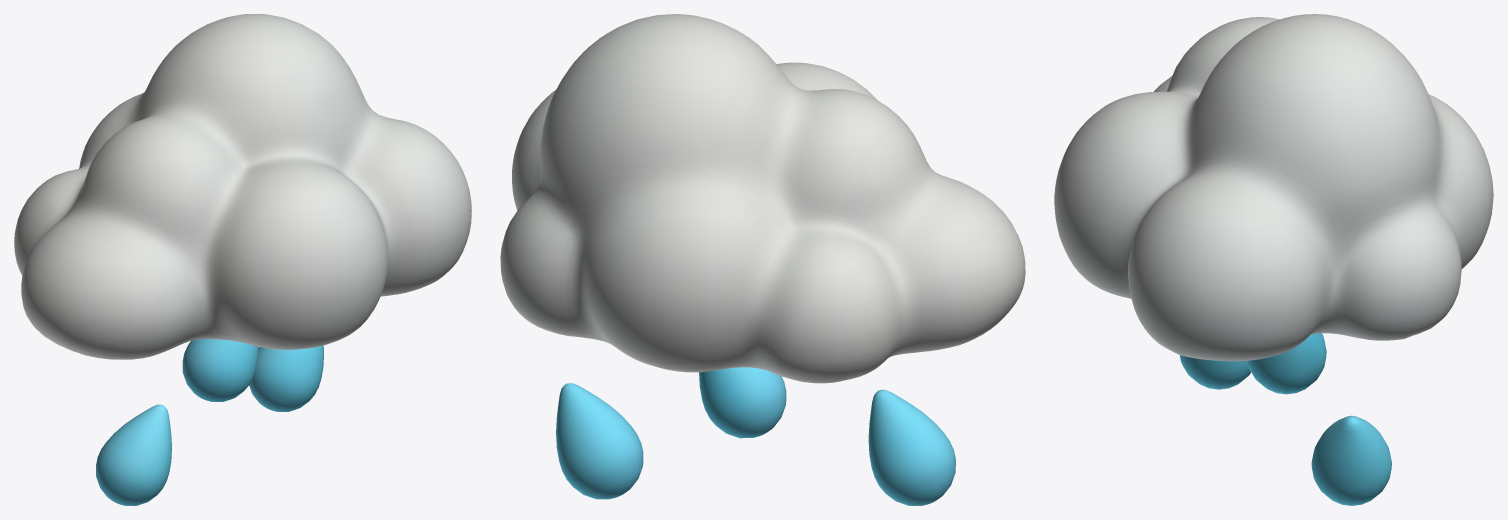
File: rain.glb
3 renders of one model, left to right at view 1: azimuth 30°, elevation 25°; view 2: azimuth 150°, elevation 25°; view 3: azimuth 270°, elevation 25°, orthographic. The views are drawn at different scales.
Visible parts, largest first — view 1: rain.1; view 2: rain.1; view 3: rain.1.
Part boxes in pixels (<box>): rain.1: <box>14,14,471,505</box>; rain.1: <box>500,14,1025,505</box>; rain.1: <box>1054,14,1493,505</box>.
Bounding box in the file's own units: 0.1647 × 0.1515 × 0.1336.
1 material, 1 textured.
